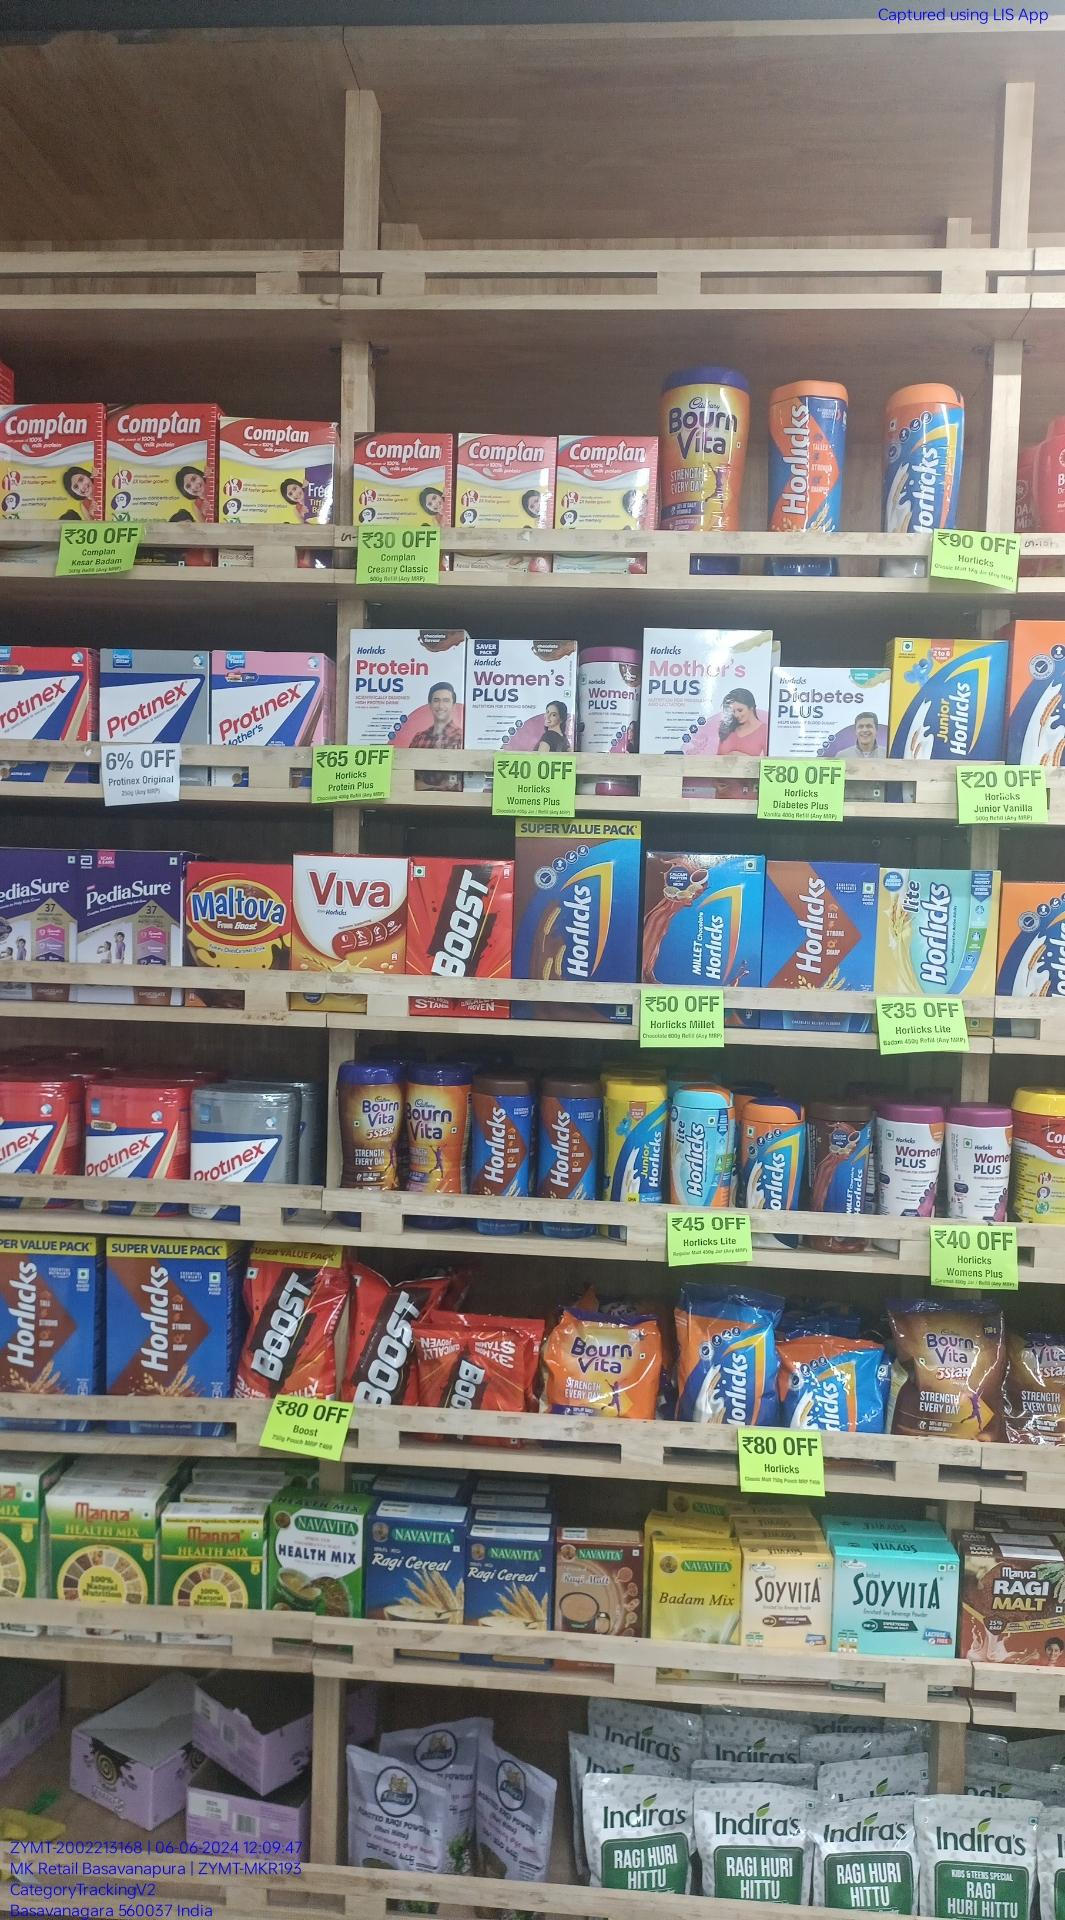BOURN_VITA_FIVE_STAR_MAGIC_500_G_JAR: (336, 1058, 407, 1229)
BOURN_VITA_FIVE_STAR_MAGIC_750_G_POUCH: (889, 1304, 1007, 1436)
COMPLAN_CHOCOLATE_200_GMS_PACK: (354, 431, 446, 531)
COMPLAN_KESAR_BADAM_200_GMS_PACK: (455, 433, 552, 577)
HORLICKS_JUNIOR_VANILLA_500_GM_JAR: (606, 1082, 666, 1214)
HORLICKS_LITE_REGULAR_MALT_500_GM_JAR: (669, 1089, 736, 1212)
HORLICK_CHOCOLATE_1_KG_PACK: (105, 1235, 224, 1443), (0, 1229, 94, 1435)
HORLICK_CHOCOLATE_500_G_JAR: (540, 1078, 601, 1242), (471, 1074, 529, 1238)
PEDIASURE_CHOCOLATE_500_G_PACK: (76, 850, 181, 1005), (0, 845, 73, 998)
PROTINEX_ORIGINAL_400_G_JAR: (191, 1086, 292, 1225)
PROTINEX_VANILLA_400_G_JAR: (83, 1081, 182, 1217), (0, 1079, 77, 1213)
